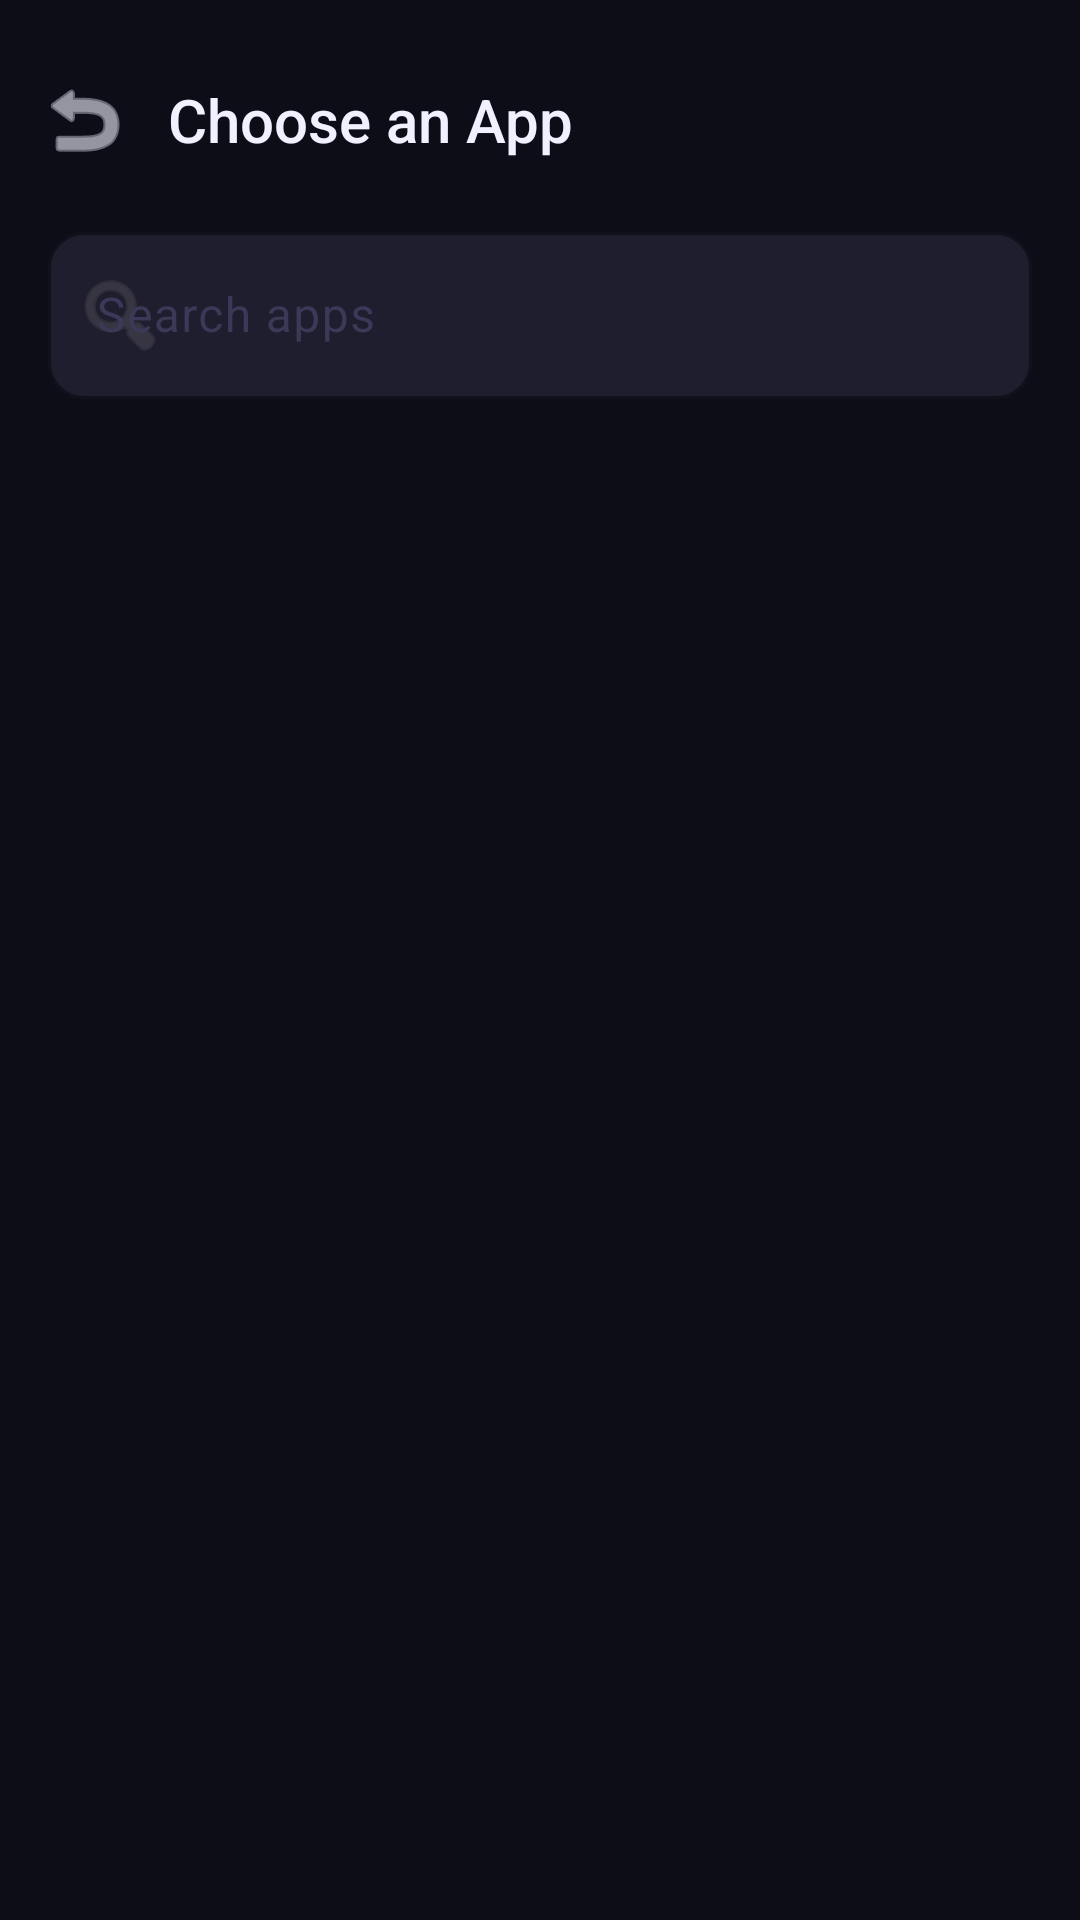

Point at icon controls on the screen. Image size 1080×1920, points as [x,y].
Back: [85,120]
